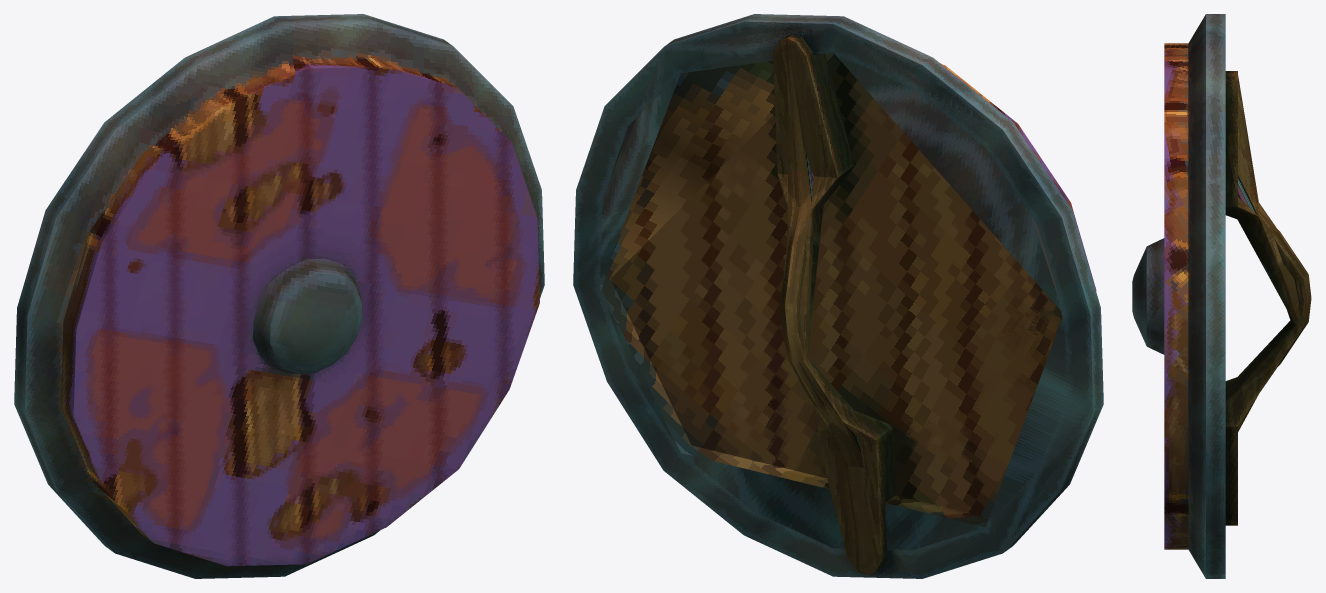
File: item_shield_viking_4.glb
The picture shows the model from 3 angles, left to right: view 1: azimuth 30°, elevation 25°; view 2: azimuth 150°, elevation 25°; view 3: azimuth 270°, elevation 25°; orthographic projection. The views are drawn at different scales.
Visible parts, largest first — view 1: shield; view 2: shield; view 3: shield.
Boxes of the visible parts, x1,y1,x2,y2 form: shield: [14, 14, 544, 578]; shield: [573, 14, 1103, 578]; shield: [1132, 14, 1311, 578].
Size of the model in its own units: 0.532 by 0.5402 by 0.1686.
1 material, 1 textured.
